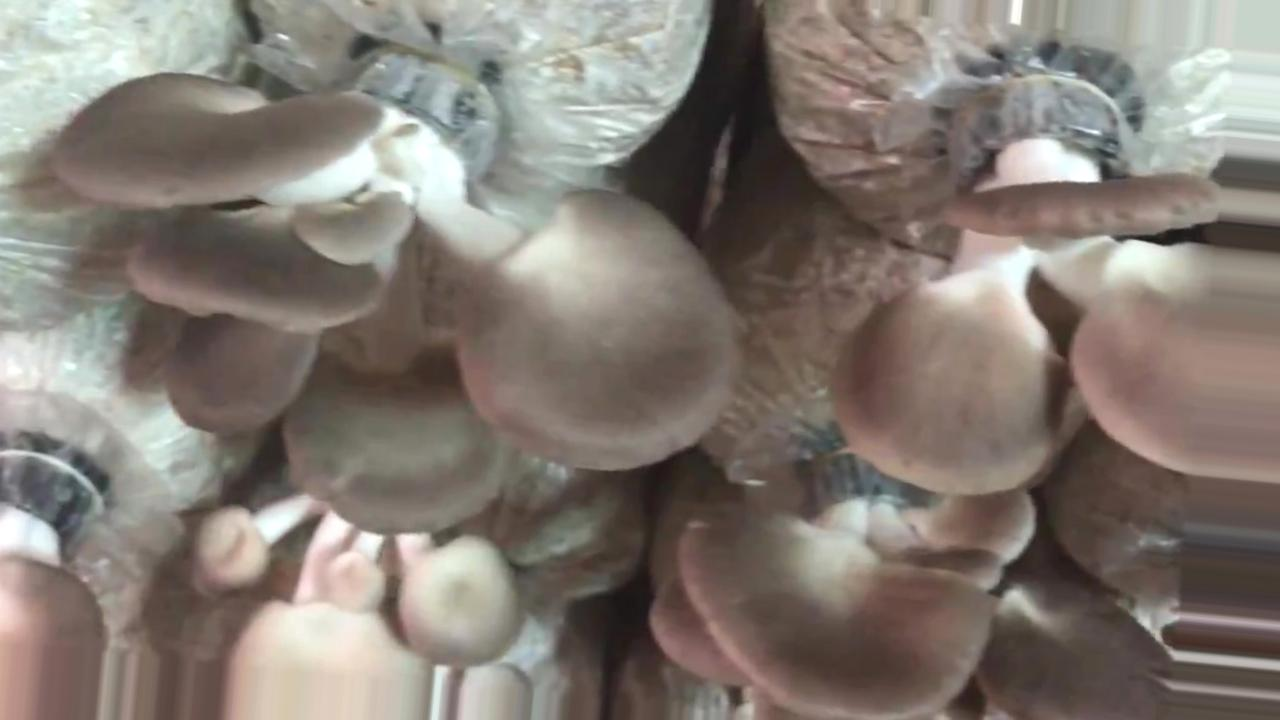nam: (55, 48, 738, 528), (834, 78, 1277, 493), (655, 453, 1168, 720), (201, 496, 525, 720), (1, 445, 107, 720)
